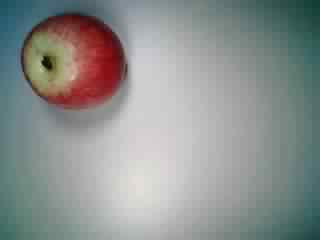apple: (20, 11, 126, 110)
